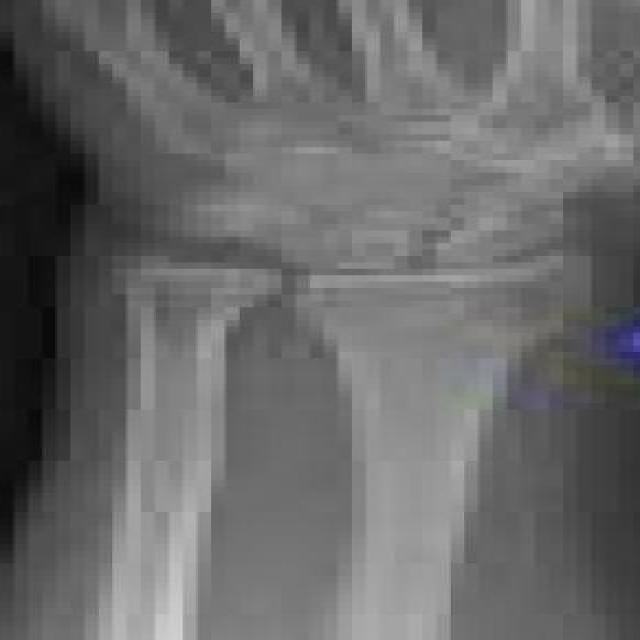Longitudinal: (300, 309, 602, 402)
